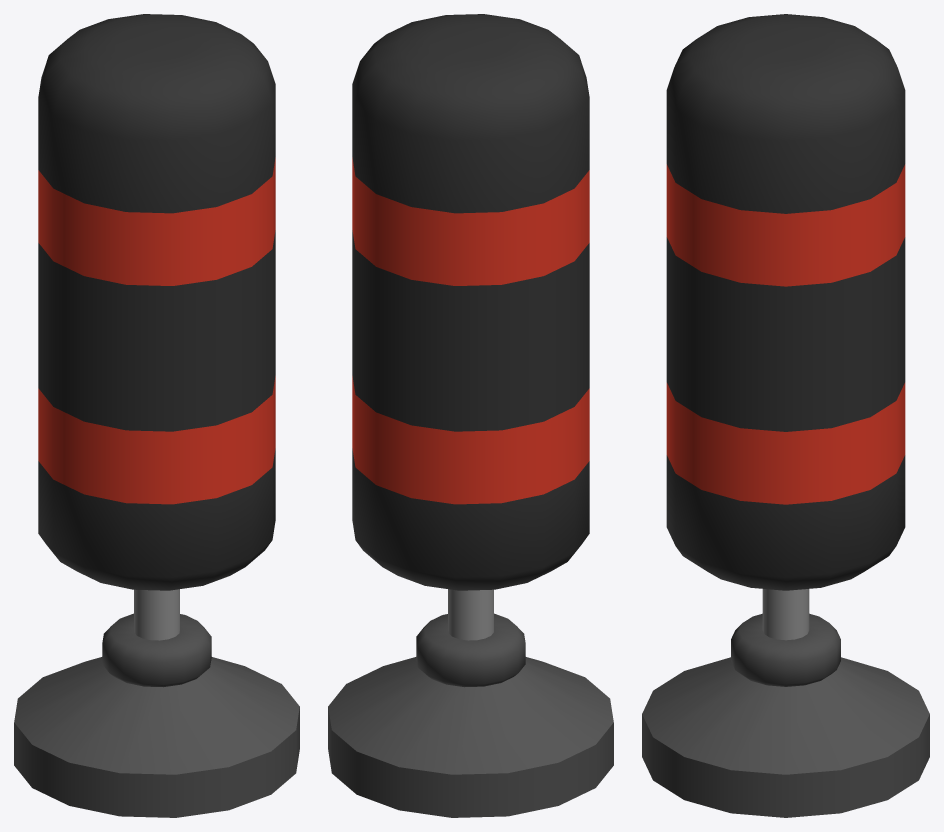
The model's file is kum_torbasi.fbx.
3 views of the same model, side by side, from view 1: azimuth 30°, elevation 25°; view 2: azimuth 150°, elevation 25°; view 3: azimuth 270°, elevation 25° (orthographic).
Parts seen in each view (by area): view 1: kum_torbasi; view 2: kum_torbasi; view 3: kum_torbasi.
Part boxes in pixels (x1,y1,x2,y2): kum_torbasi: (14,14,299,817); kum_torbasi: (328,14,613,817); kum_torbasi: (642,14,929,817).
Size of the model in its own units: 2.23 by 6.09 by 2.23.
